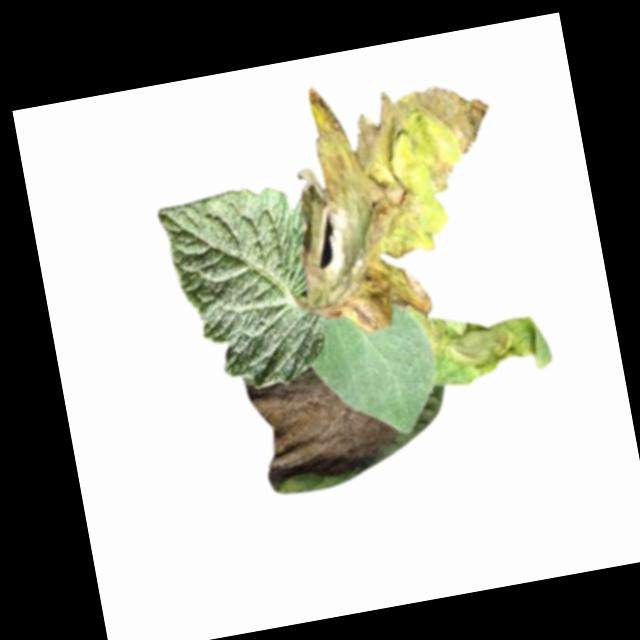Late_blight: (268, 57, 524, 342), (240, 353, 406, 490), (407, 283, 555, 394)
